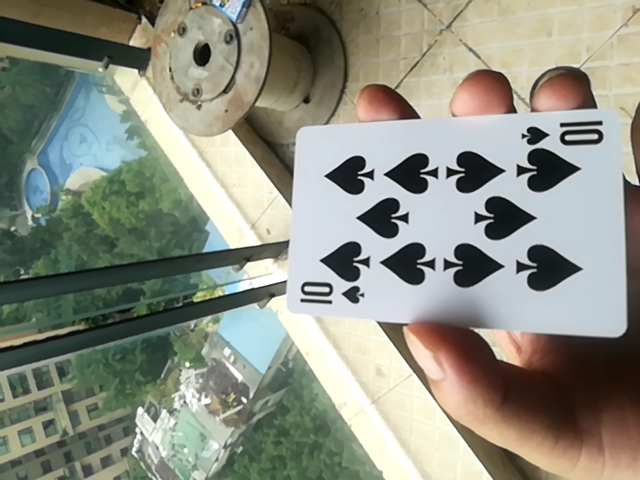ht 10: (276, 104, 624, 340)
